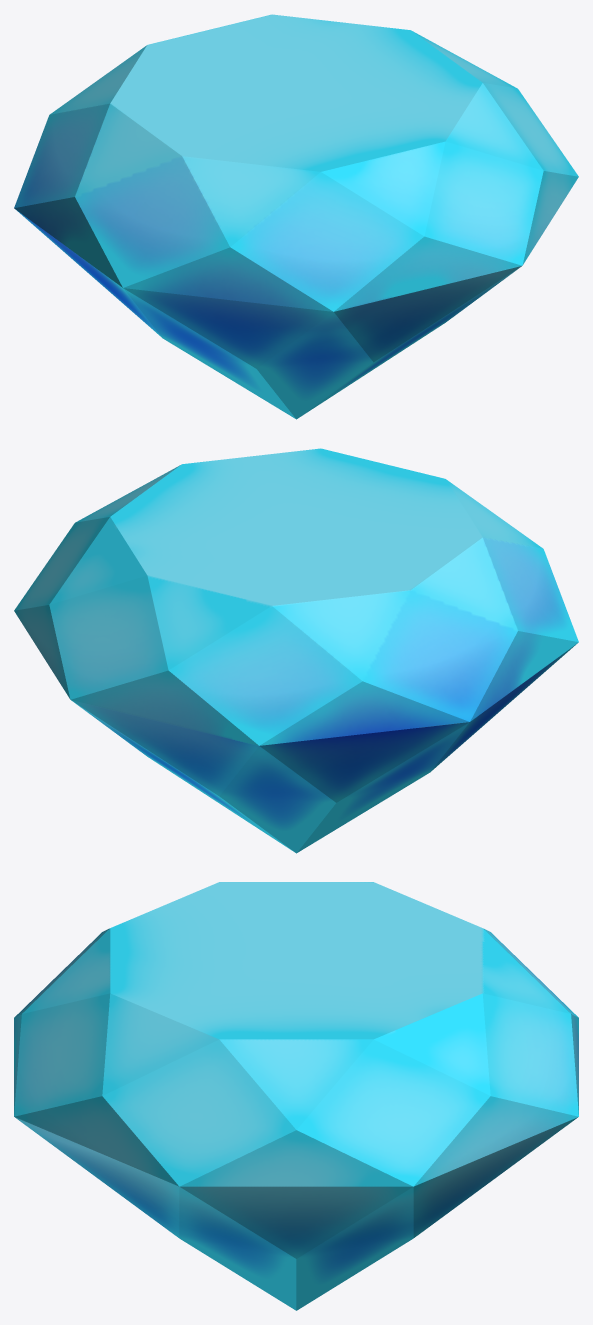
The model's file is SM_mineral.fbx.
3 renders of one model, top to bottom at view 1: azimuth 30°, elevation 25°; view 2: azimuth 150°, elevation 25°; view 3: azimuth 270°, elevation 25°, orthographic. The views are drawn at different scales.
Visible parts, largest first — view 1: SM_mineral; view 2: SM_mineral; view 3: SM_mineral.
Boxes of the visible parts, x1,y1,x2,y2 form: SM_mineral: (14, 14, 578, 419); SM_mineral: (14, 448, 578, 853); SM_mineral: (14, 882, 578, 1310).
Size of the model in its own units: 0.3423 by 0.2341 by 0.3423.
